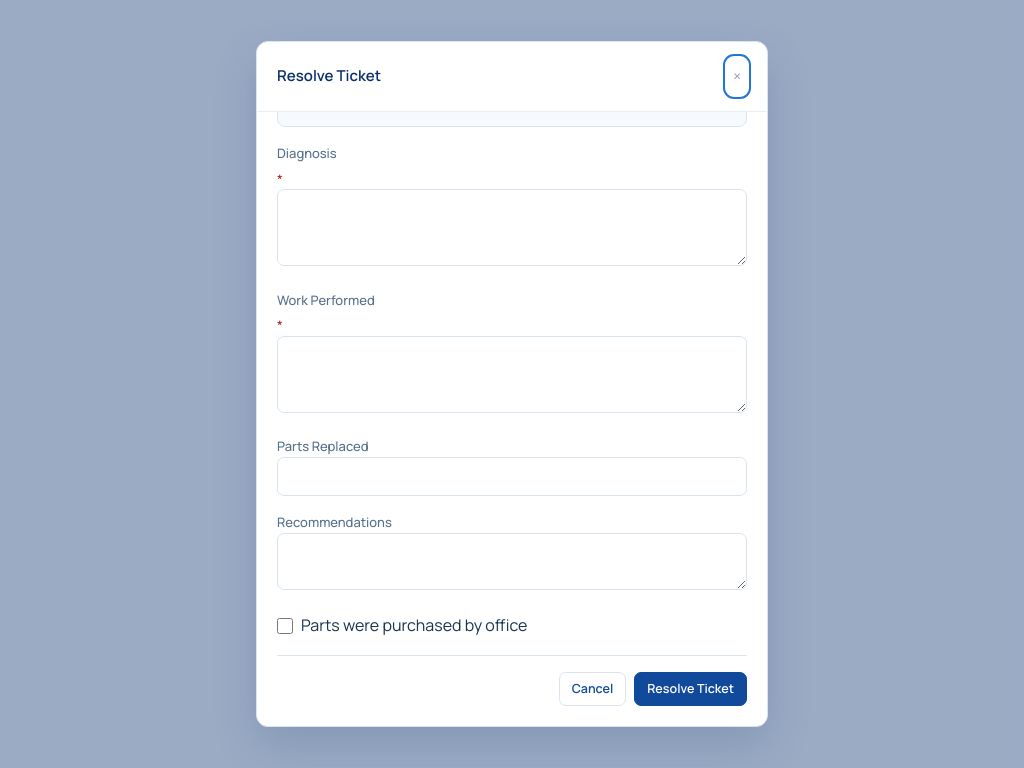
Test: TicketResolveModal › diagnosis and work performed are required
This screenshot has width=1024, height=768.
(page scrolled)
Click the button "Resolve Ticket".
click(691, 689)  # box [634,672,747,706]
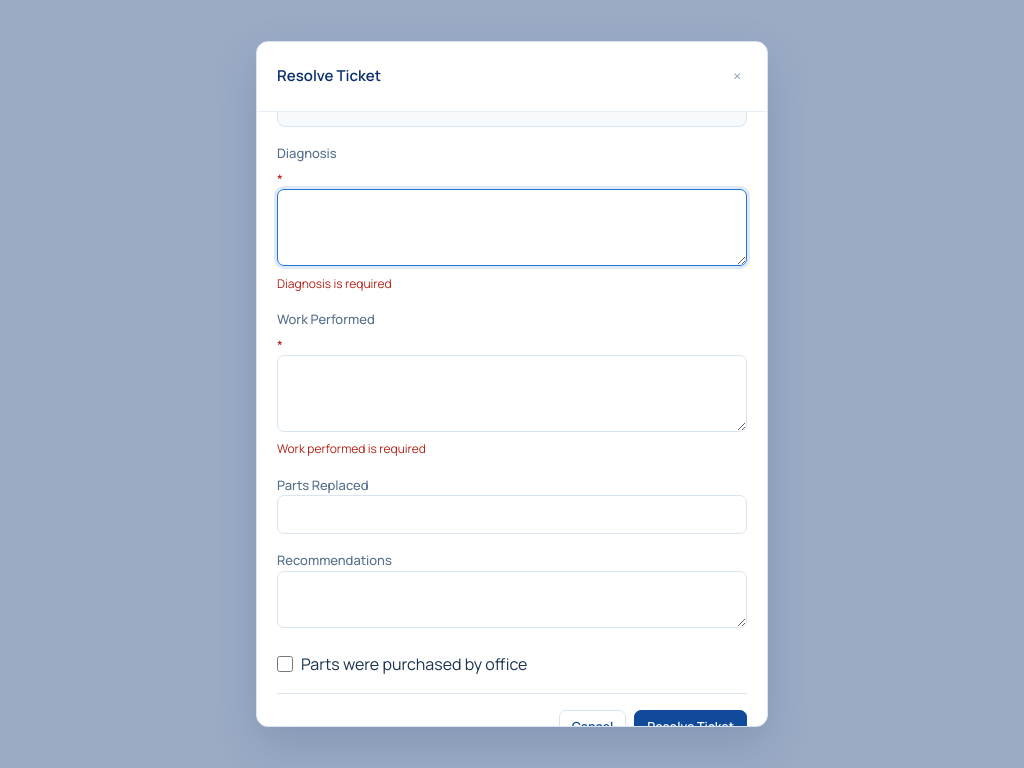
Expected: the text "Diagnosis is required" is shown, [277,275,392,292]
Expected: the text "Work performed is required" is shown, [277,440,426,457]
